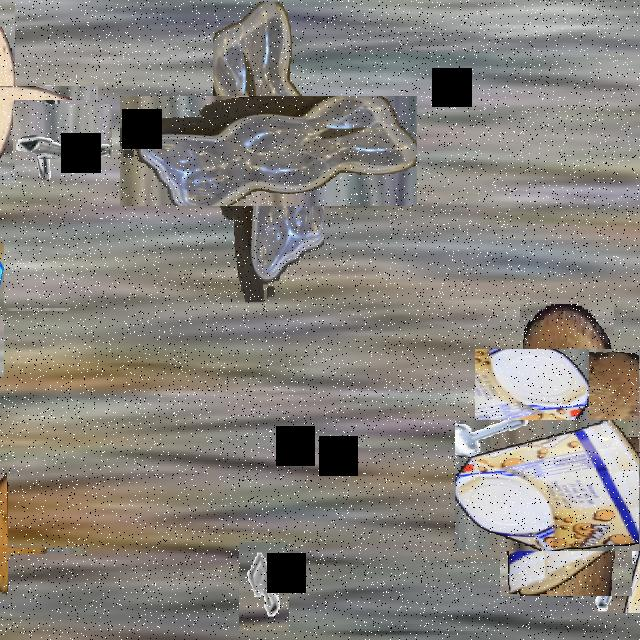glass: (0, 274, 36, 344)
metal: (24, 93, 102, 170), (239, 542, 289, 631), (594, 521, 640, 613)
plastic: (166, 49, 370, 253), (477, 397, 640, 573)
wood: (497, 327, 637, 466), (0, 43, 56, 141), (0, 505, 48, 596)
